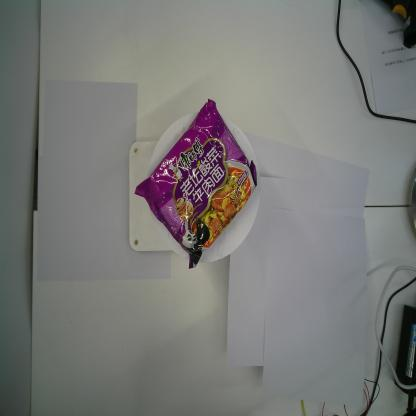Instant Noodles: (134, 98, 258, 271)
